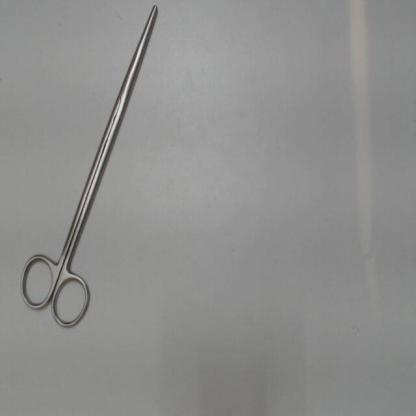9 Metzenbaum Scissors: (16, 2, 163, 338)
